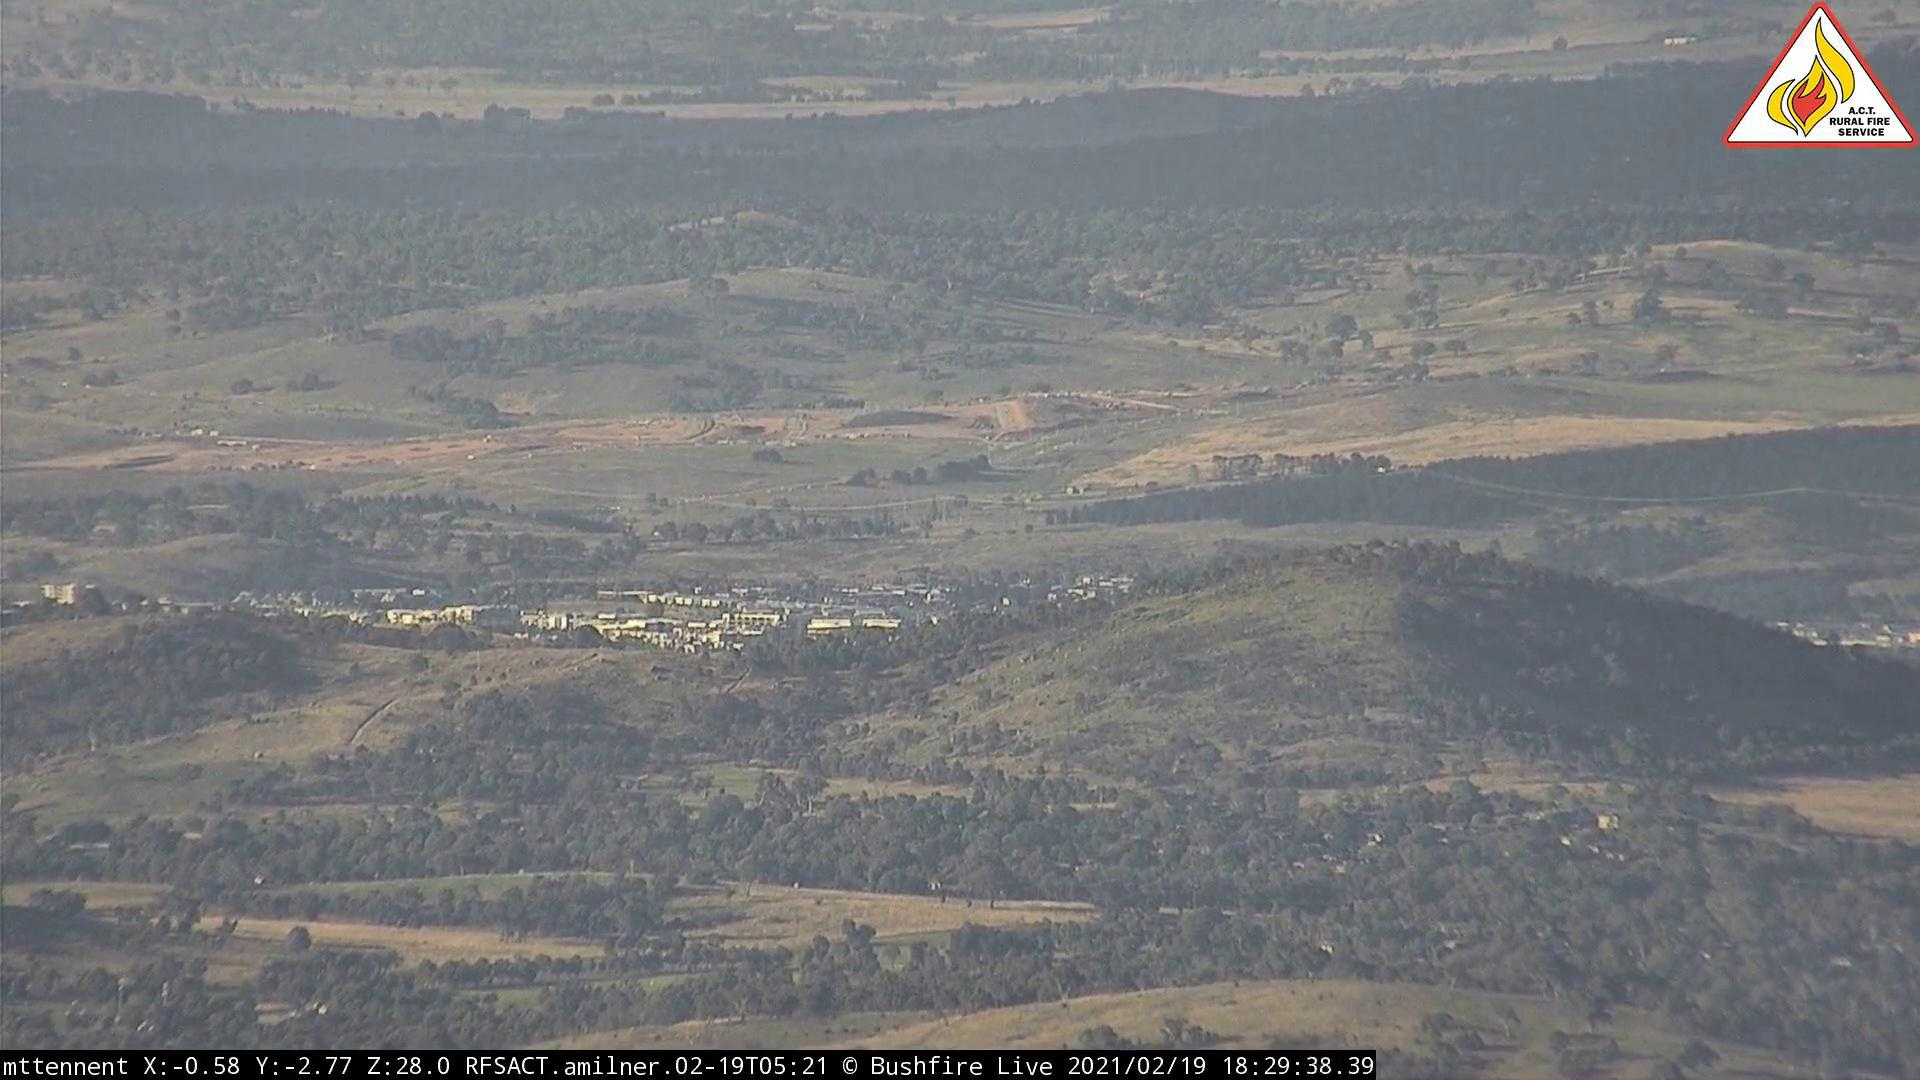instance_salient_object: (621, 489, 653, 535)
